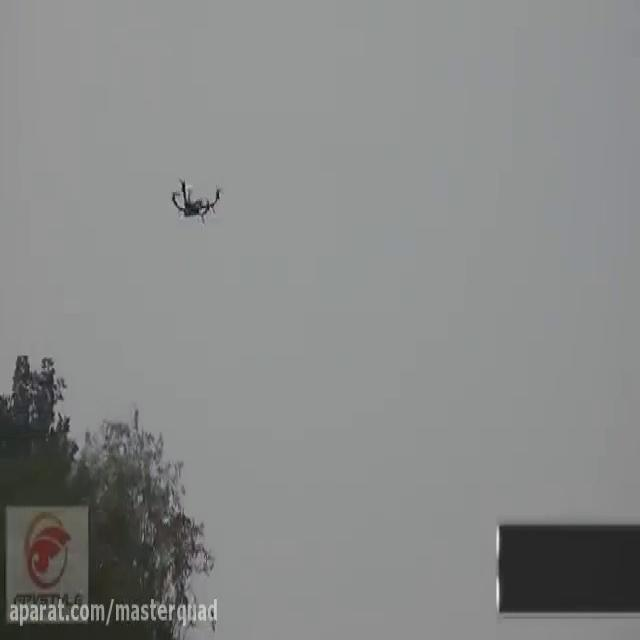drone: (167, 172, 227, 224)
